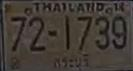1: (64, 16, 70, 50)
2: (29, 16, 44, 50)
3: (94, 15, 109, 49)
7: (10, 15, 26, 50), (77, 16, 92, 50)
9: (111, 16, 126, 48)
SRI: (53, 54, 90, 71)
